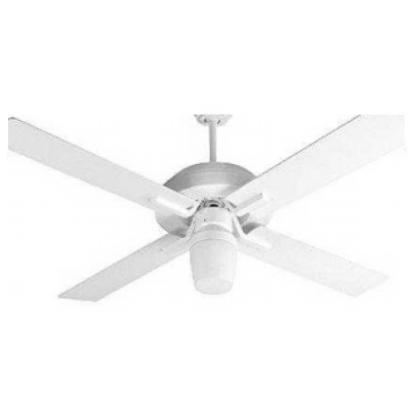ceiling-fan: (8, 115, 406, 310)
